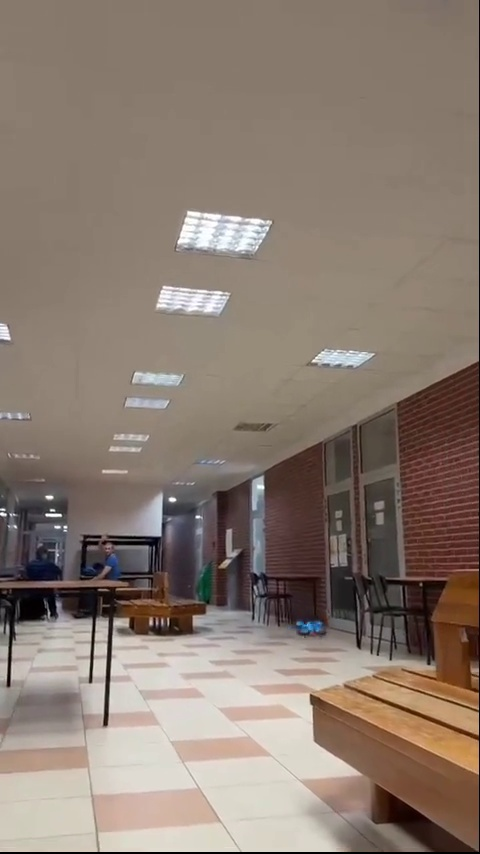drone: (294, 620, 327, 638)
no vest: (18, 540, 61, 586), (80, 543, 122, 587)
